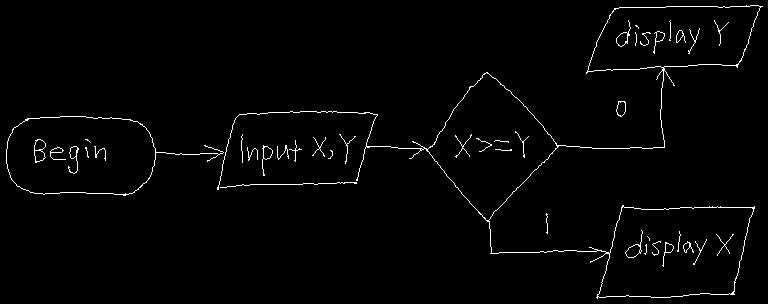arrow: (488, 221, 609, 262), (155, 145, 223, 161), (367, 141, 426, 158)
data: (596, 205, 754, 298), (217, 111, 377, 189), (586, 5, 762, 73)
decision: (426, 72, 558, 221)
process: (558, 68, 674, 148)
terminator: (6, 116, 155, 195)
text: (241, 134, 355, 175), (625, 230, 733, 266), (616, 20, 728, 53), (34, 139, 105, 173), (455, 131, 528, 157), (616, 101, 625, 116), (545, 213, 548, 233)
